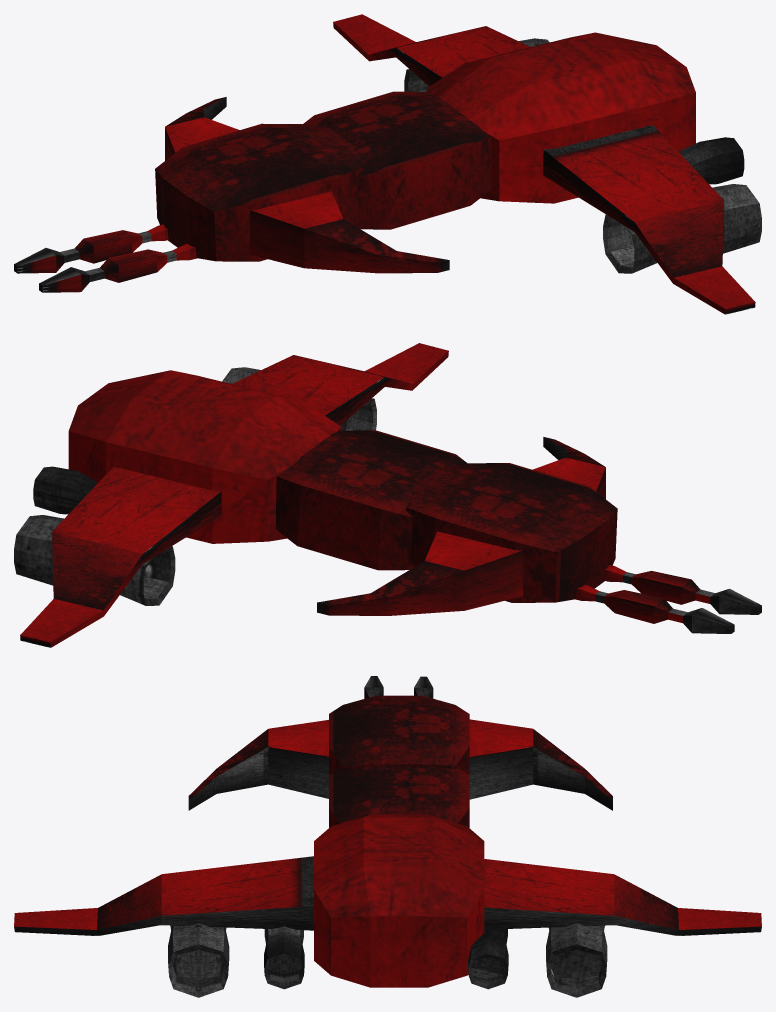
3 renders of one model, top to bottom at view 1: azimuth 30°, elevation 25°; view 2: azimuth 150°, elevation 25°; view 3: azimuth 270°, elevation 25°, orthographic. The views are drawn at different scales.
Parts seen in each view (by area): view 1: body1, Cube, body1.003, body1.010, Cube.001, engin1, gun.003, gun.002, engin1.001; view 2: body1, Cube, body1.003, body1.010, Cube.001, engin1, gun.002, gun.003, engin1.001; view 3: body1, Cube, Cube.001, body1.003, engin1, body1.010, engin1.001.
Part boxes in pixels (x1,y1,x2,y2): body1: (427, 32, 695, 203); Cube: (333, 14, 755, 314); body1.003: (155, 123, 363, 261); body1.010: (303, 91, 491, 229); Cube.001: (165, 97, 449, 273); engin1: (404, 38, 761, 273); gun.003: (39, 244, 196, 292); gun.002: (14, 224, 168, 273); engin1.001: (678, 137, 744, 184); body1: (68, 370, 341, 543); Cube: (20, 343, 448, 647); body1.003: (406, 463, 617, 602); body1.010: (275, 430, 466, 570); Cube.001: (317, 437, 605, 615); engin1: (14, 367, 376, 605); gun.002: (575, 584, 734, 633); gun.003: (604, 564, 761, 614); engin1.001: (33, 466, 97, 514); body1: (314, 814, 484, 987); Cube: (14, 856, 761, 935); Cube.001: (188, 719, 612, 810); body1.003: (329, 695, 469, 774); engin1: (168, 923, 607, 997); body1.010: (329, 765, 469, 827); engin1.001: (264, 926, 508, 989).
Size of the model in its own units: 339 by 64.32 by 357.
